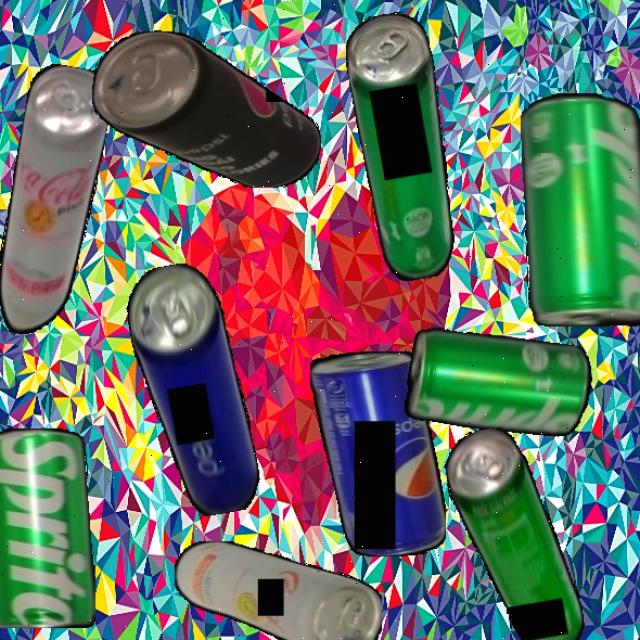debris: (120, 257, 265, 523), (92, 29, 321, 188), (340, 8, 470, 284), (439, 418, 588, 640), (0, 61, 116, 342), (520, 92, 640, 326), (309, 352, 446, 556), (401, 319, 597, 448), (173, 541, 382, 640), (0, 427, 95, 627)
